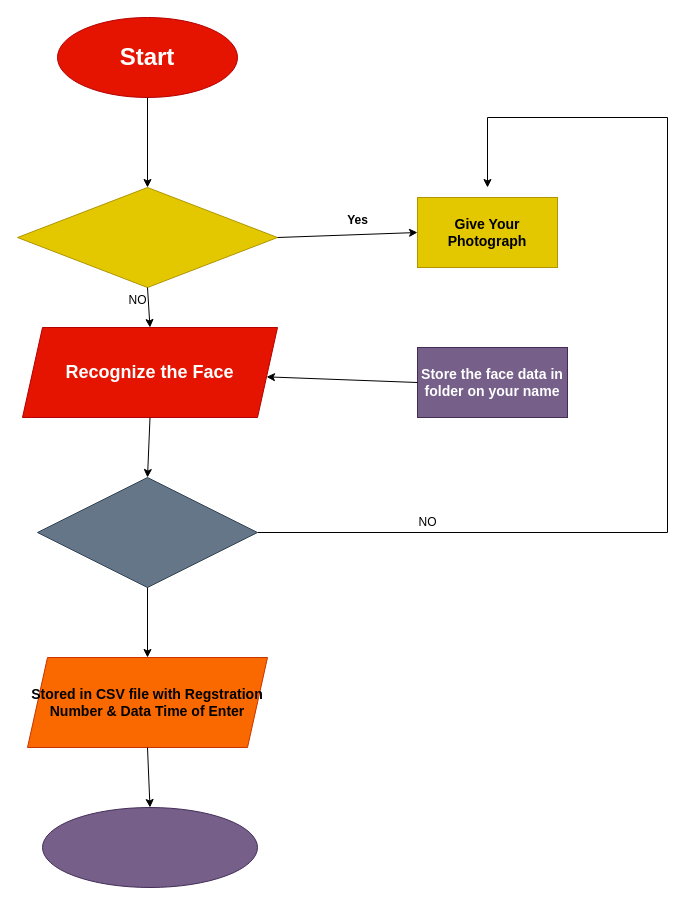
This 693x905 diagram has some shape labels left out. The box of each missing label's shape, as (x1, y1, x2, y2) in pixels:
End: (42, 806, 258, 888)
Face Recognized: (36, 476, 258, 588)
New User: (16, 186, 278, 288)
